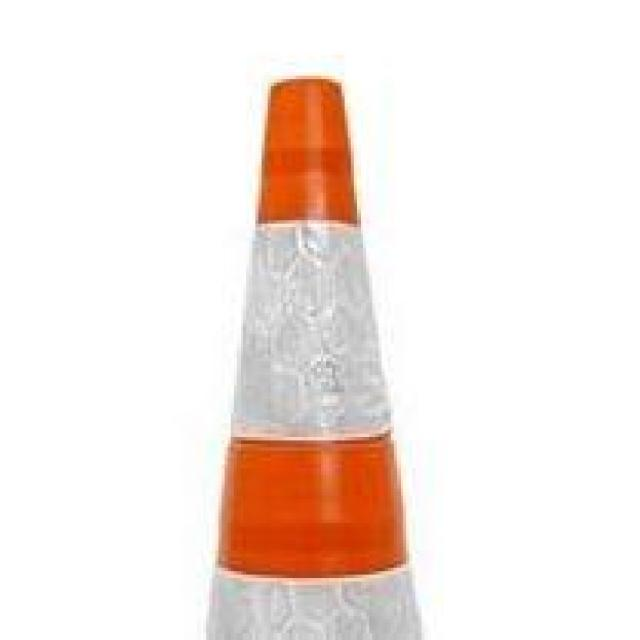cone: (197, 78, 440, 638)
